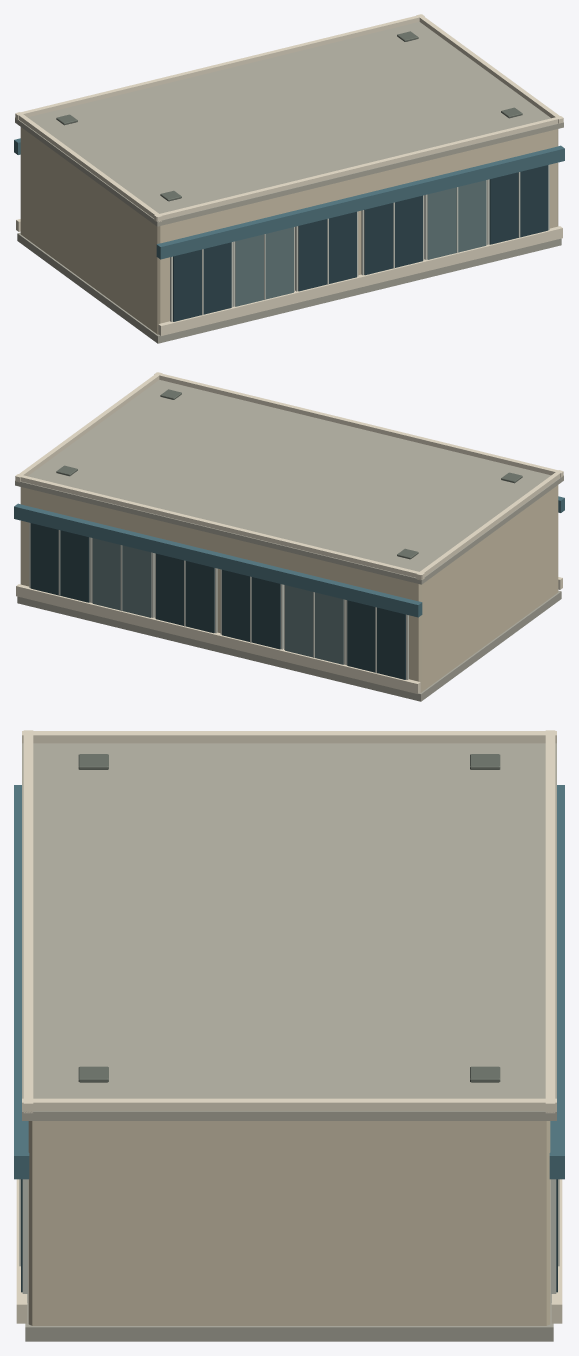
Rendered from storefront.glb.
The picture shows the model from 3 angles, top to bottom: view 1: azimuth 30°, elevation 25°; view 2: azimuth 150°, elevation 25°; view 3: azimuth 270°, elevation 25°; orthographic projection. The views are drawn at different scales.
Visible parts, largest first — view 1: store-shell; view 2: store-shell; view 3: store-shell.
Boxes of the visible parts, <box> form: store-shell: <box>14,14,564,343</box>; store-shell: <box>14,372,564,701</box>; store-shell: <box>14,730,564,1341</box>.
Bounding box in the file's own units: 20.3 × 6.09 × 12.67.
